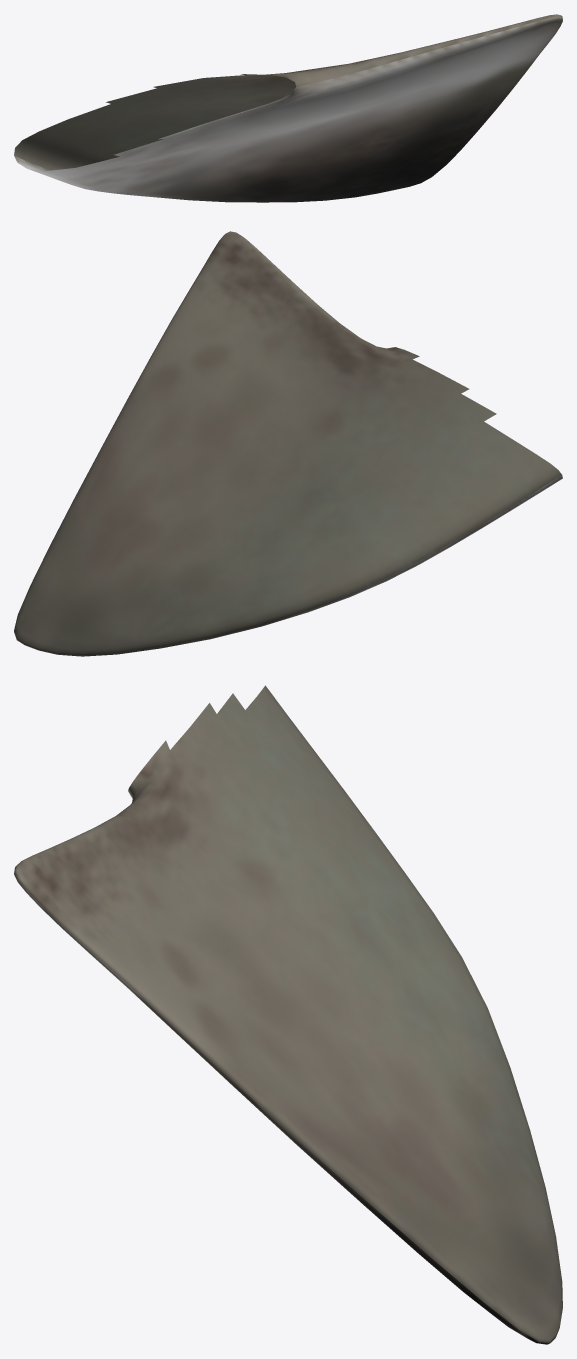
The model's file is aletader2.obj.
3 renders of one model, top to bottom at view 1: azimuth 30°, elevation 25°; view 2: azimuth 150°, elevation 25°; view 3: azimuth 270°, elevation 25°, orthographic. The views are drawn at different scales.
Parts seen in each view (by area): view 1: polySurface9 polySurface8 polySurface6 polySurface4 polySurface2; view 2: polySurface9 polySurface8 polySurface6 polySurface4 polySurface2; view 3: polySurface9 polySurface8 polySurface6 polySurface4 polySurface2.
Boxes of the visible parts, x1,y1,x2,y2 form: polySurface9 polySurface8 polySurface6 polySurface4 polySurface2: [14, 14, 562, 202]; polySurface9 polySurface8 polySurface6 polySurface4 polySurface2: [14, 231, 562, 656]; polySurface9 polySurface8 polySurface6 polySurface4 polySurface2: [14, 685, 562, 1344].
Size of the model in its own units: 0.6671 by 0.4074 by 0.4515.
Materials: 1 (1 with a texture image).
